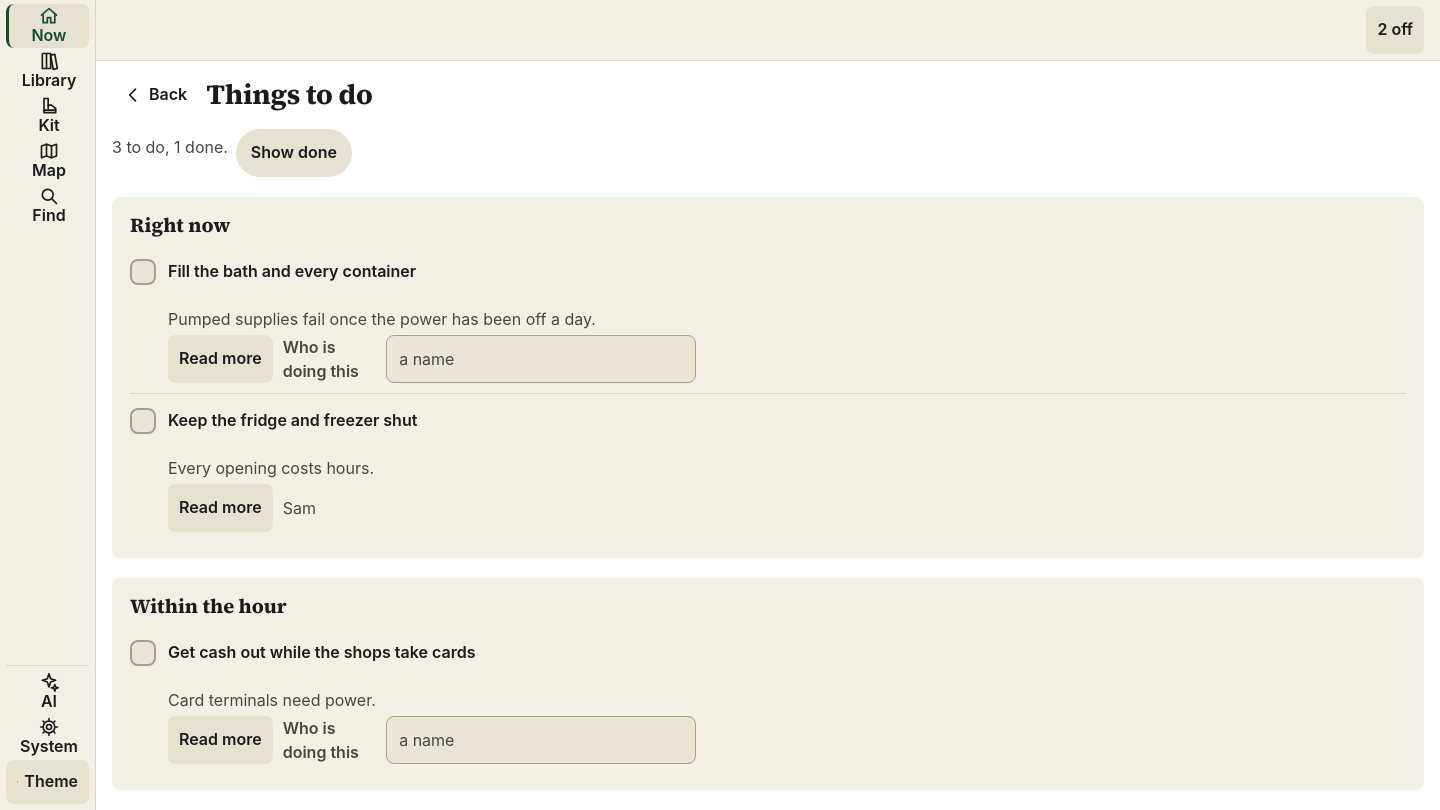
it: Tasks › takes a name for a job, typed in, with nobody to pick from first
In the field named "Who is doing this: Fill the bath and every container": (541, 359) [386,335,696,383], type "Alex"
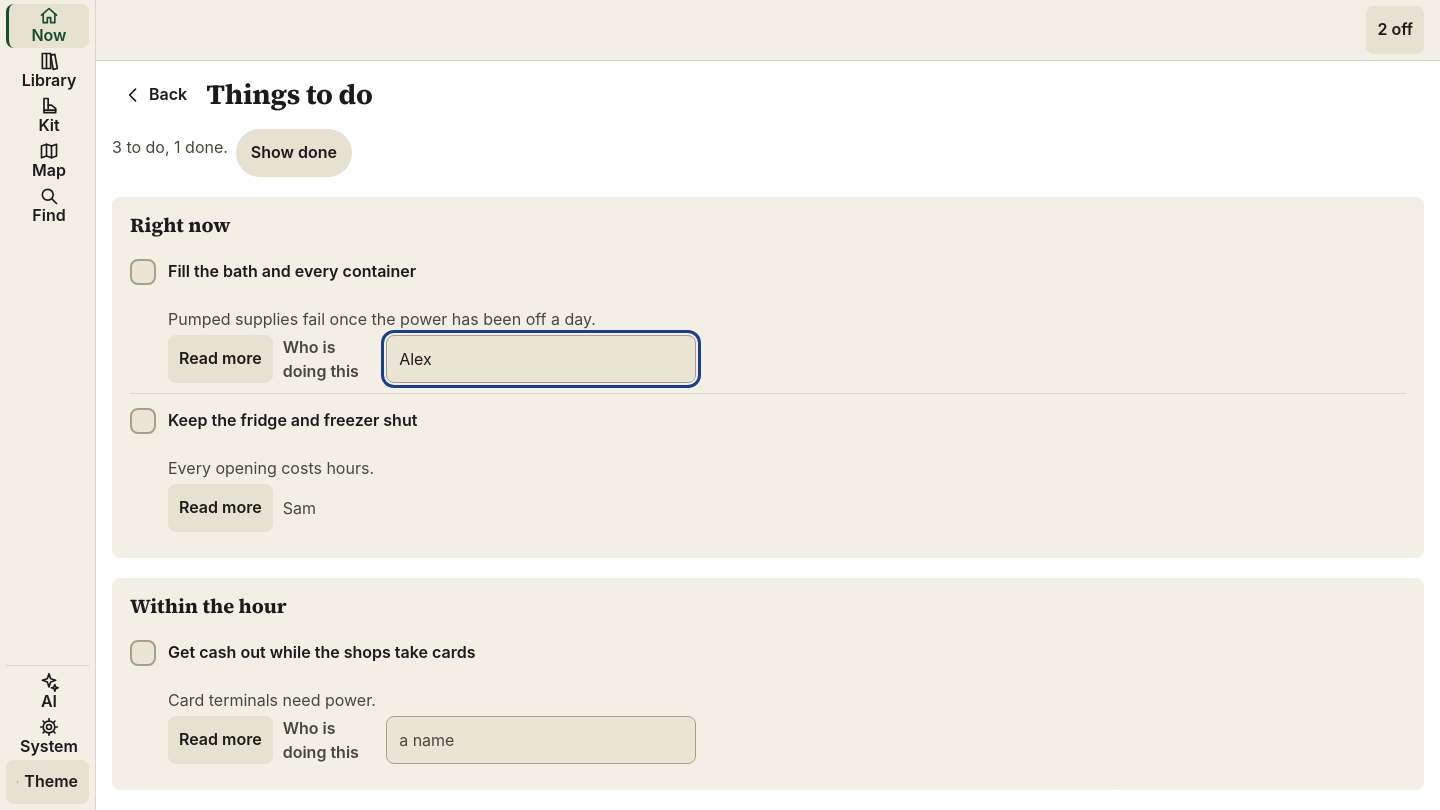
Press Tab
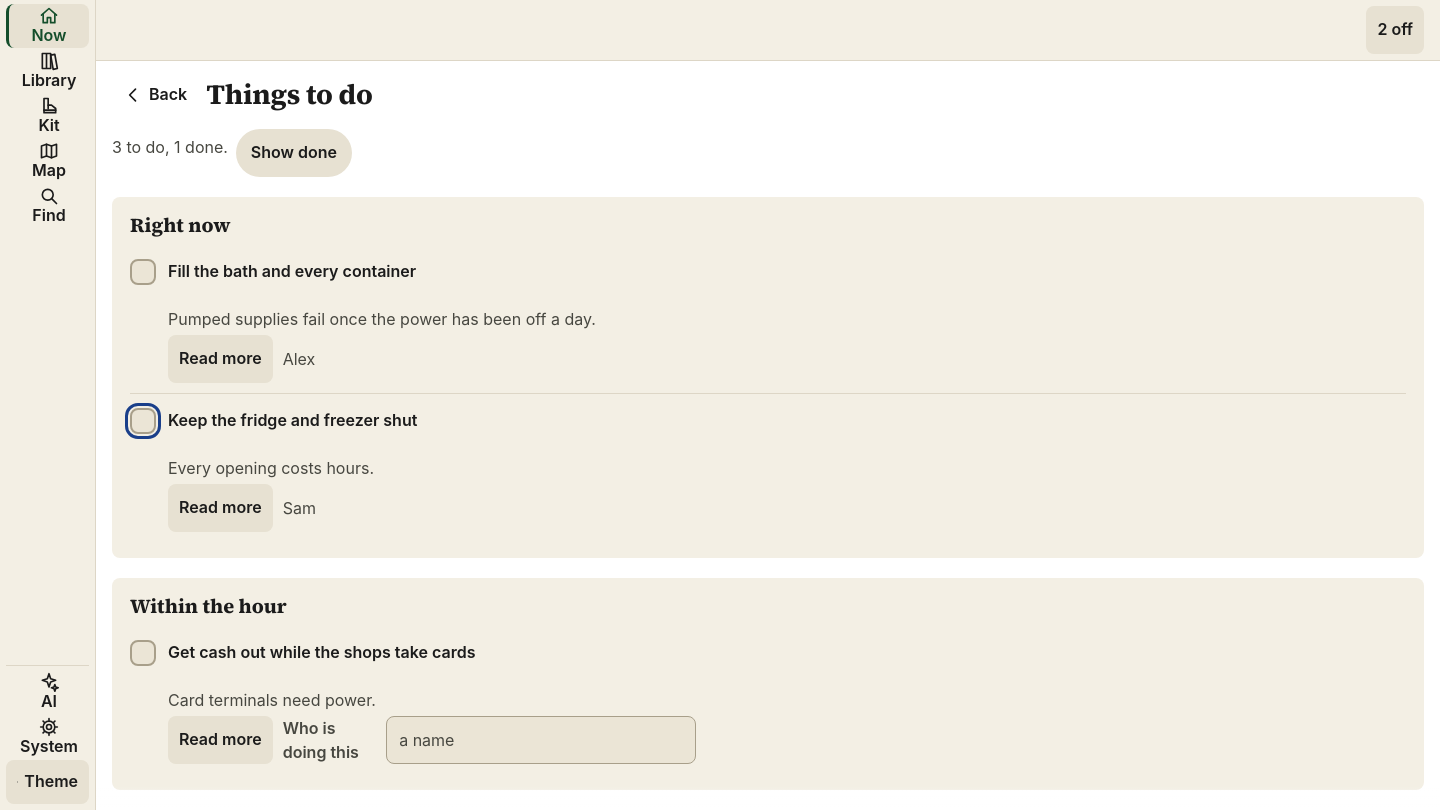
Now the text "Alex" is shown, box [283,347,315,371]
